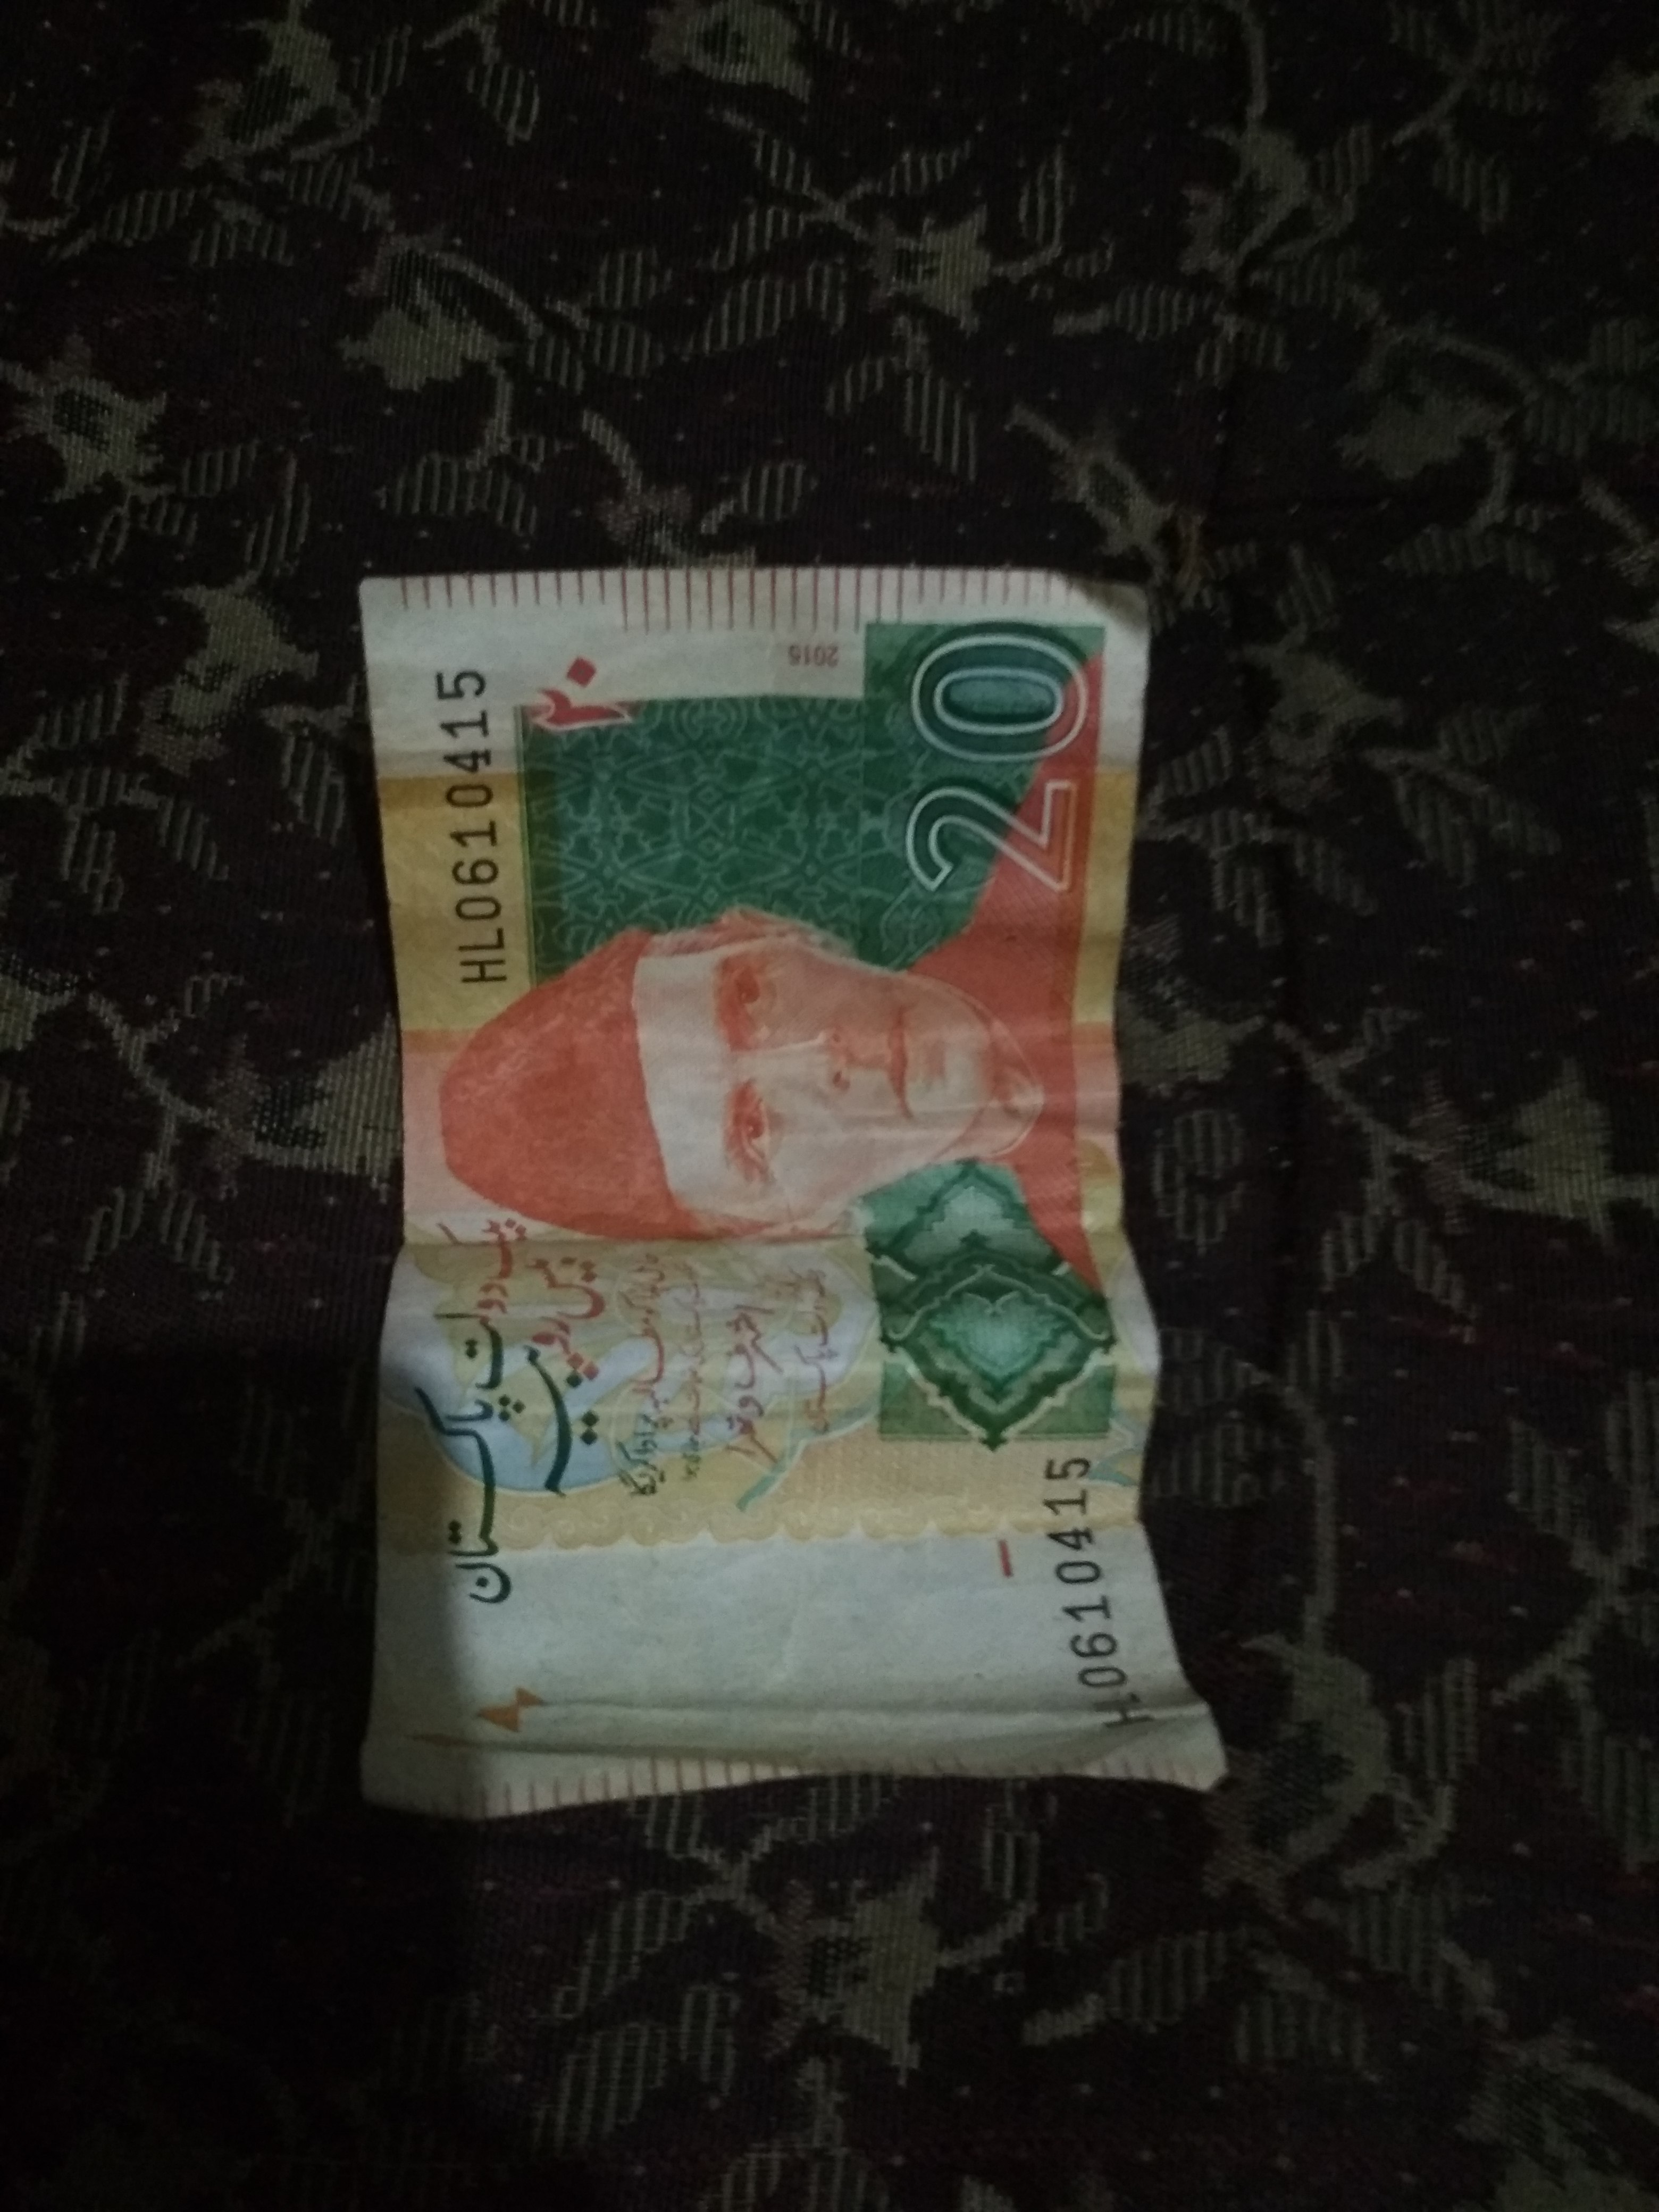20 rupee: (270, 470, 1225, 1949)
